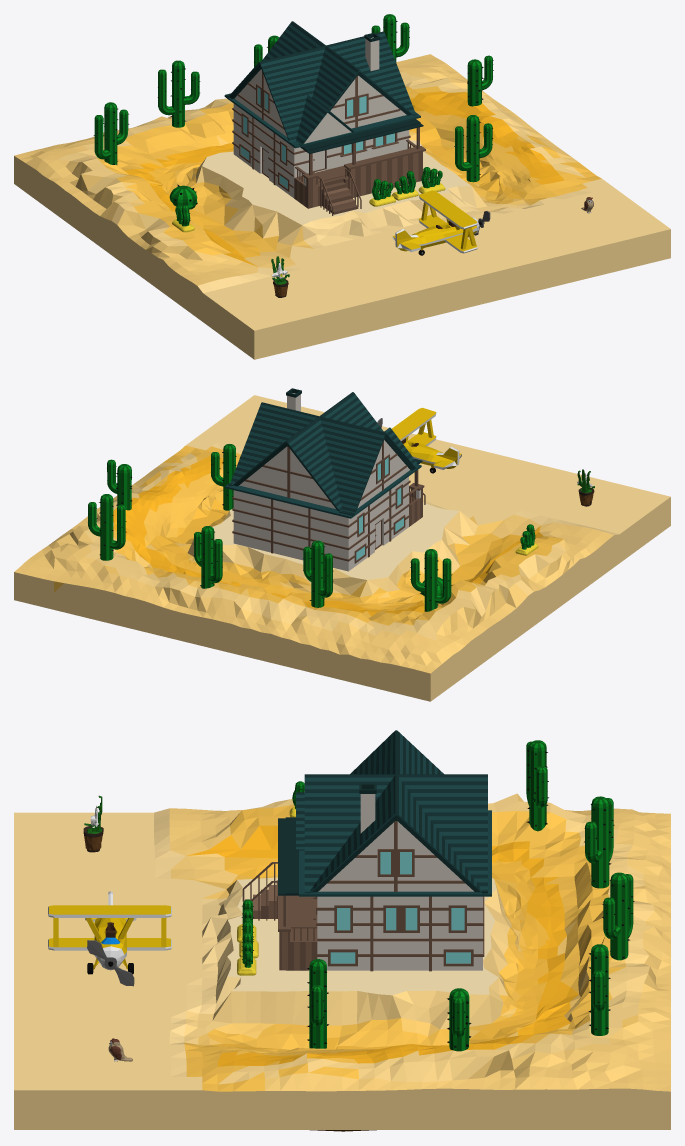
The picture shows the model from 3 angles, top to bottom: view 1: azimuth 30°, elevation 25°; view 2: azimuth 150°, elevation 25°; view 3: azimuth 270°, elevation 25°; orthographic projection. The views are drawn at different scales.
Parts seen in each view (by area): view 1: Cube.001, Cube.793, VEHICLES_AIRPLANE, Cylinder.037, Cylinder.044, Cylinder.045, Cylinder.038, Cylinder.042, Cylinder.039, OBJRANDOM_MONJA BLANCA, Sphere.023, Cylinder.040; view 2: Cube.001, Cube.793, VEHICLES_AIRPLANE, Cylinder.042, Cylinder.045, Cylinder.044, Cylinder.043, Cylinder.037, Cylinder.038; view 3: Cube.001, Cube.793, VEHICLES_AIRPLANE, Cylinder.043, Cylinder.044, Cylinder.045, Cylinder.042, Cylinder.037, Cylinder.038, OBJRANDOM_MONJA BLANCA, Cylinder.041.
Part boxes in pixels (left/top/right/bottom): Cube.001: left=14, top=54, right=670, bottom=359; Cube.793: left=224, top=21, right=425, bottom=215; VEHICLES_AIRPLANE: left=392, top=190, right=490, bottom=255; Cylinder.037: left=454, top=115, right=493, bottom=182; Cylinder.044: left=157, top=60, right=200, bottom=127; Cylinder.045: left=93, top=102, right=129, bottom=164; Cylinder.038: left=467, top=55, right=493, bottom=106; Cylinder.042: left=371, top=14, right=409, bottom=62; Cylinder.039: left=369, top=179, right=395, bottom=206; OBJRANDOM_MONJA BLANCA: left=271, top=256, right=289, bottom=297; Sphere.023: left=169, top=184, right=197, bottom=209; Cylinder.040: left=392, top=171, right=418, bottom=200; Cube.001: left=14, top=395, right=670, bottom=701; Cube.793: left=225, top=388, right=425, bottom=571; VEHICLES_AIRPLANE: left=377, top=407, right=461, bottom=473; Cylinder.042: left=88, top=494, right=126, bottom=560; Cylinder.045: left=410, top=549, right=452, bottom=611; Cylinder.044: left=303, top=540, right=333, bottom=607; Cylinder.043: left=193, top=526, right=222, bottom=588; Cylinder.037: left=211, top=444, right=240, bottom=510; Cylinder.038: left=107, top=459, right=131, bottom=510; Cube.001: left=14, top=793, right=670, bottom=1129; Cube.793: left=242, top=730, right=491, bottom=971; VEHICLES_AIRPLANE: left=48, top=891, right=171, bottom=986; Cylinder.043: left=602, top=872, right=634, bottom=960; Cylinder.044: left=584, top=796, right=614, bottom=888; Cylinder.045: left=526, top=740, right=548, bottom=831; Cylinder.042: left=588, top=944, right=610, bottom=1035; Cylinder.037: left=307, top=959, right=328, bottom=1048; Cylinder.038: left=447, top=988, right=471, bottom=1051; OBJRANDOM_MONJA BLANCA: left=83, top=795, right=103, bottom=852; Cylinder.041: left=237, top=932, right=256, bottom=975.
Bounding box in the file's own units: 4002 × 1693 × 4001.
Materials: 35 (3 with a texture image).
